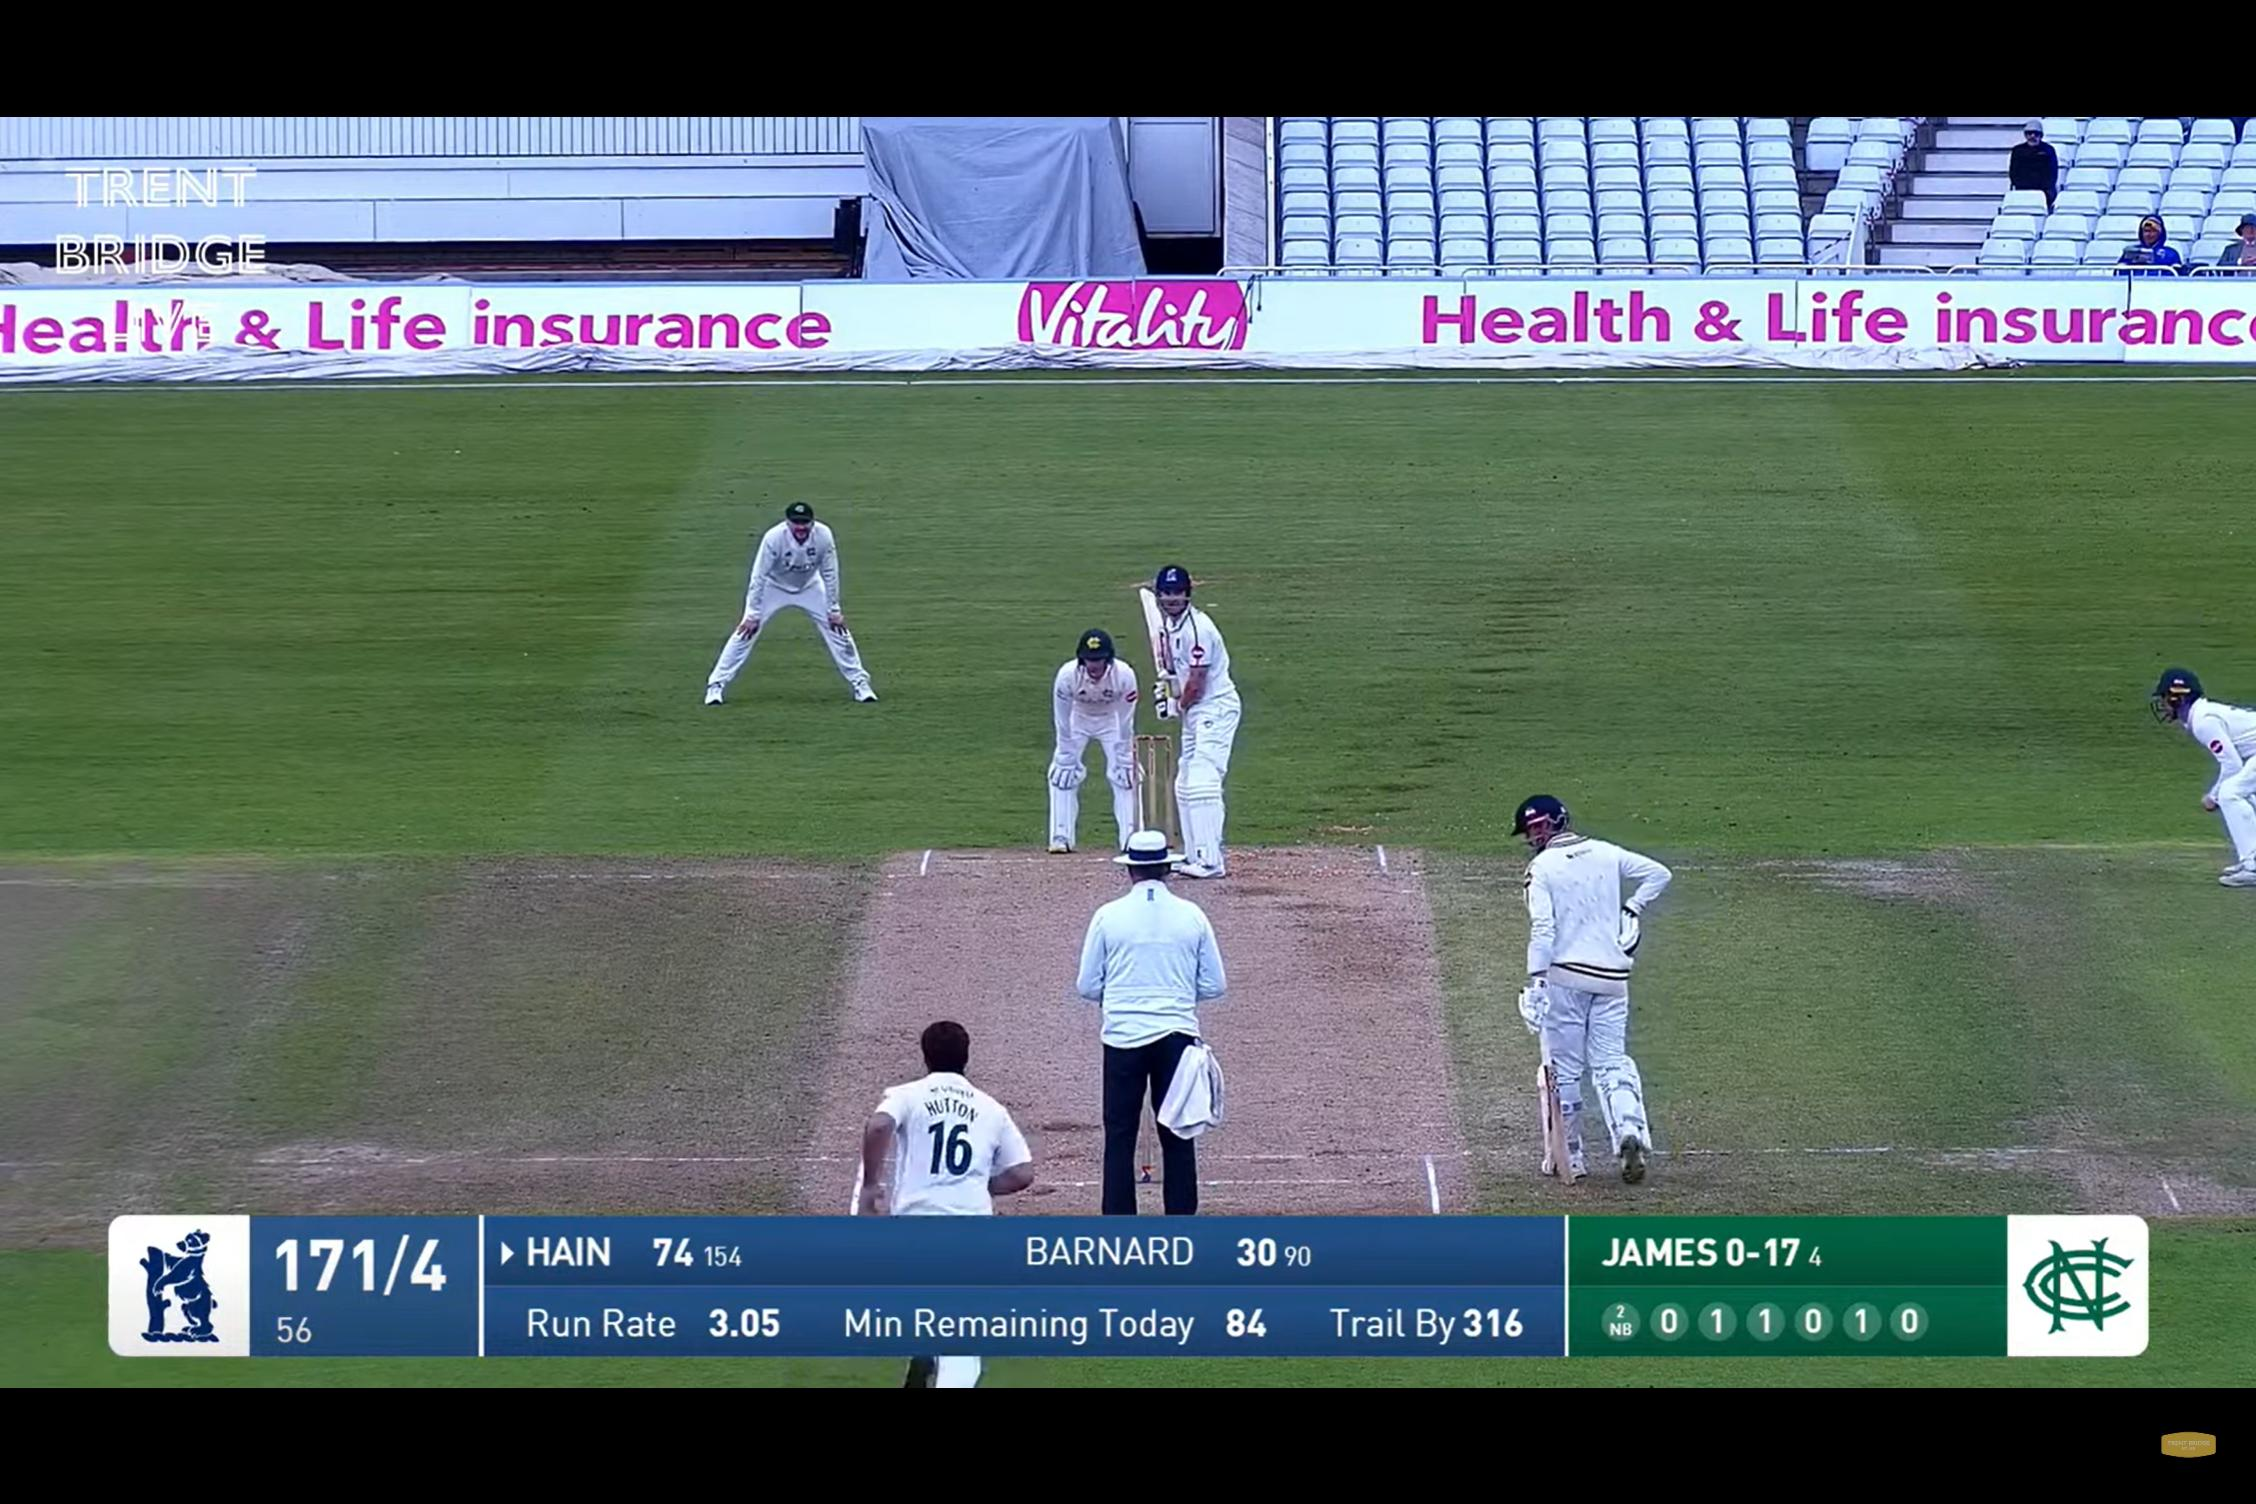batsman: (1130, 542, 1281, 873)
bowler running in: (821, 990, 1046, 1214)
non striker: (1494, 775, 1684, 1192)
